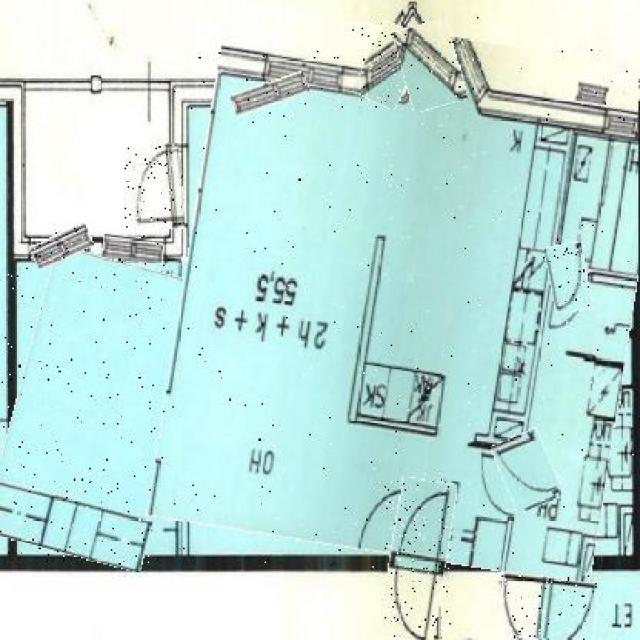door: (384, 478, 450, 640), (497, 575, 597, 640), (125, 145, 183, 229), (497, 431, 557, 509), (548, 243, 590, 312)
window: (397, 21, 463, 110), (360, 23, 418, 108), (232, 77, 310, 111), (31, 228, 94, 264), (103, 236, 163, 262), (577, 82, 608, 105)
zone: (164, 16, 640, 569), (0, 253, 197, 564)
